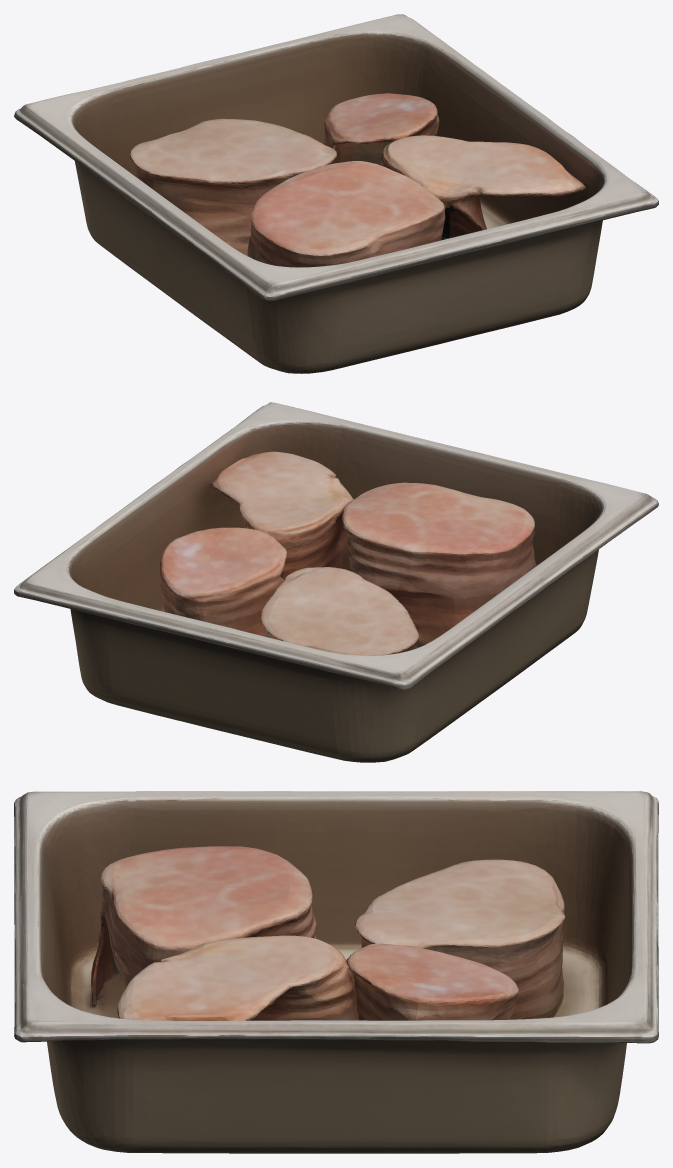
The model's file is thit_nguoi.glb.
3 views of the same model, one above another, from view 1: azimuth 30°, elevation 25°; view 2: azimuth 150°, elevation 25°; view 3: azimuth 270°, elevation 25° (orthographic). The views are drawn at different scales.
Visible parts, largest first — view 1: world; view 2: world; view 3: world.
Part boxes in pixels (bbox=[...]): world: bbox=[14, 14, 658, 373]; world: bbox=[14, 402, 658, 762]; world: bbox=[14, 791, 658, 1153].
Bounding box in the file's own units: 0.8905 × 0.2614 × 0.9988.
1 material, 1 textured.
